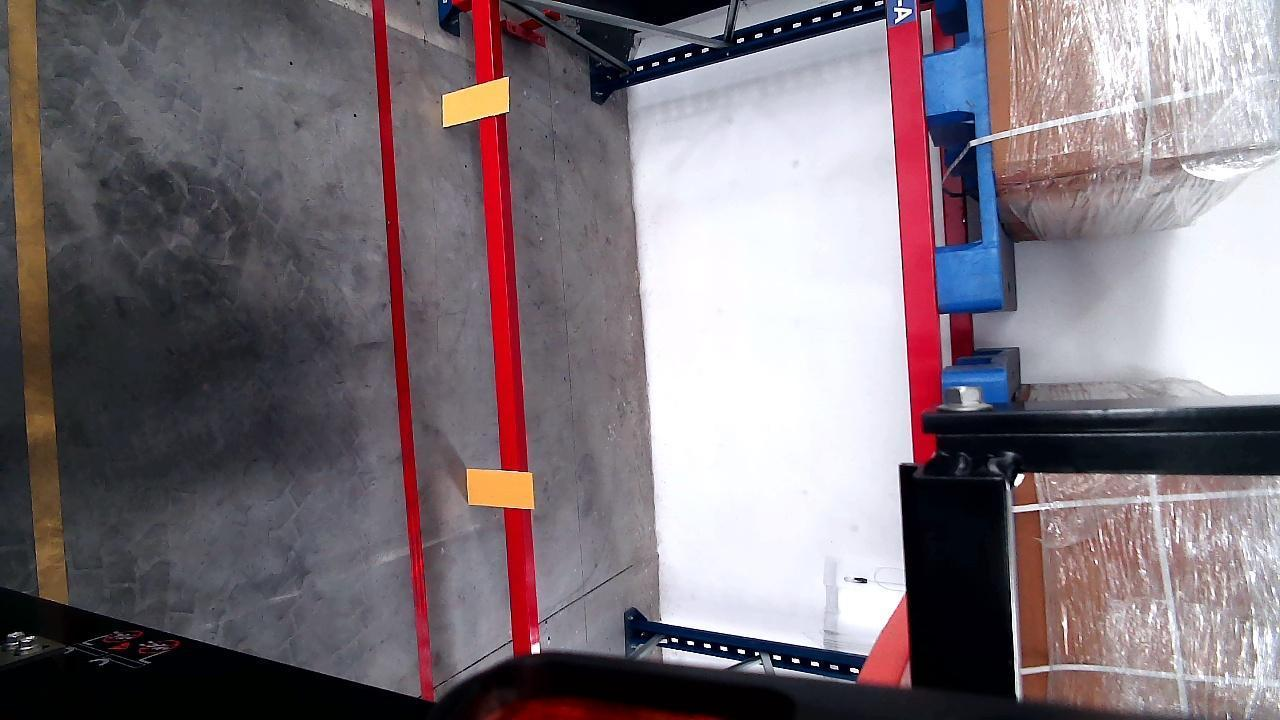h_rack: (474, 0, 534, 674), (889, 0, 939, 456)
orange_strip: (442, 78, 508, 125), (467, 468, 533, 509)
red_line: (376, 0, 425, 701)
small_pallet: (920, 0, 1003, 301)
yellow_line: (12, 0, 62, 615)
